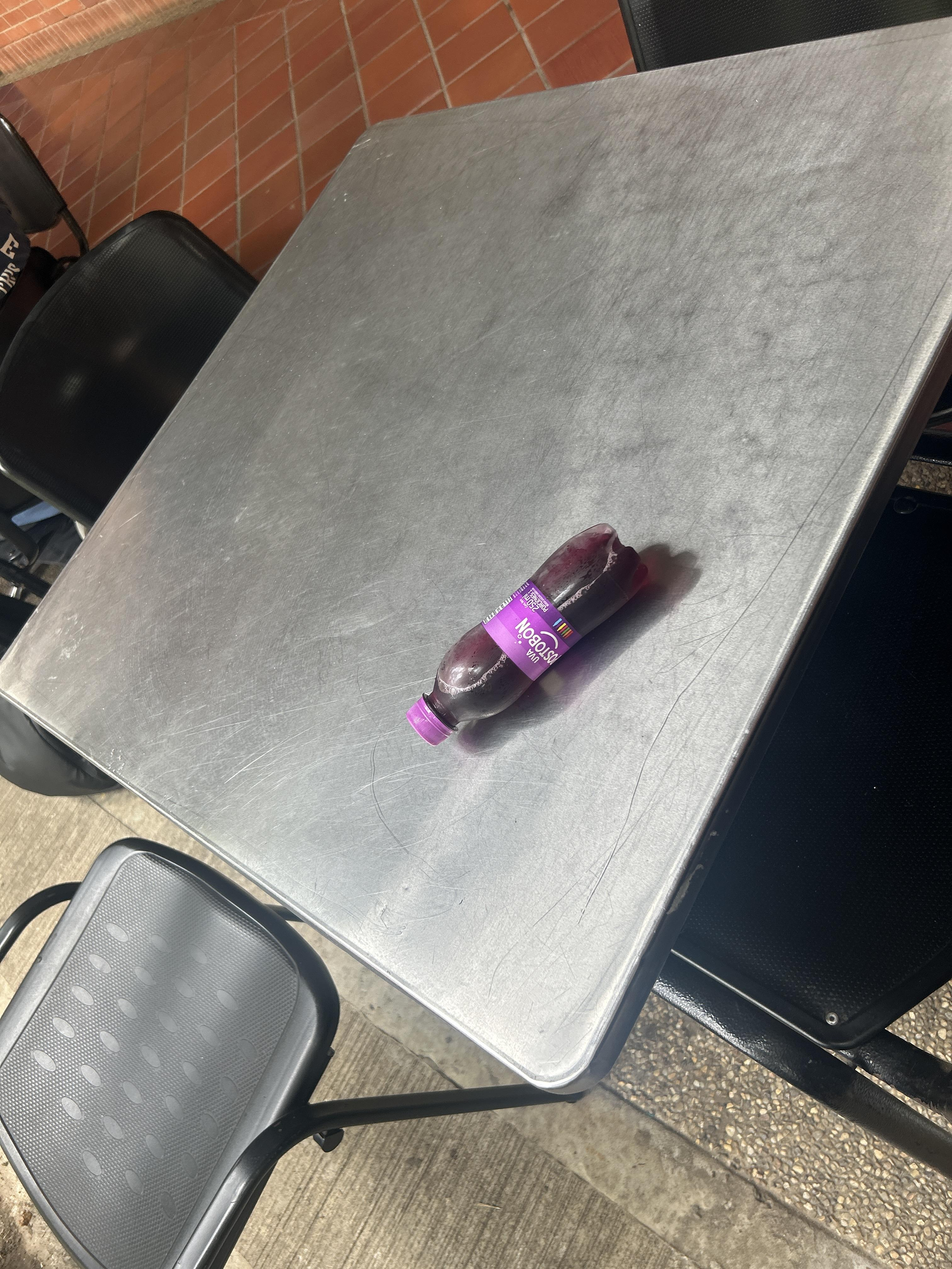uva: (407, 524, 647, 745)
